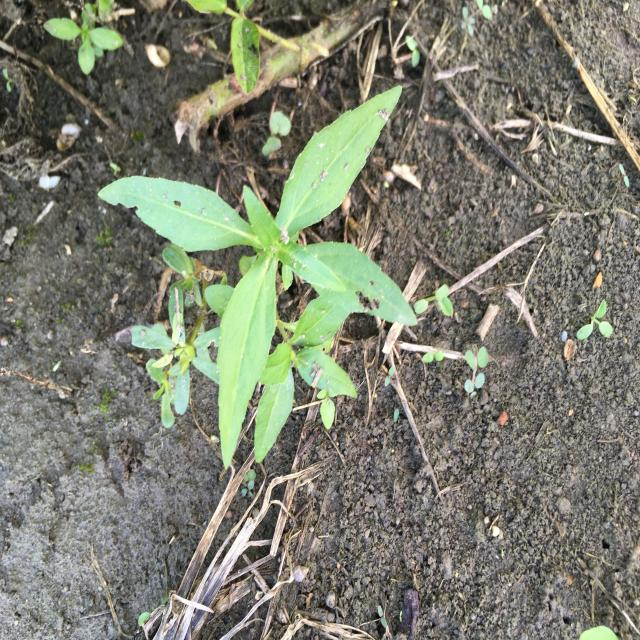Eclipta: (96, 83, 418, 472), (40, 4, 125, 76)
Purslane: (115, 240, 229, 431)
